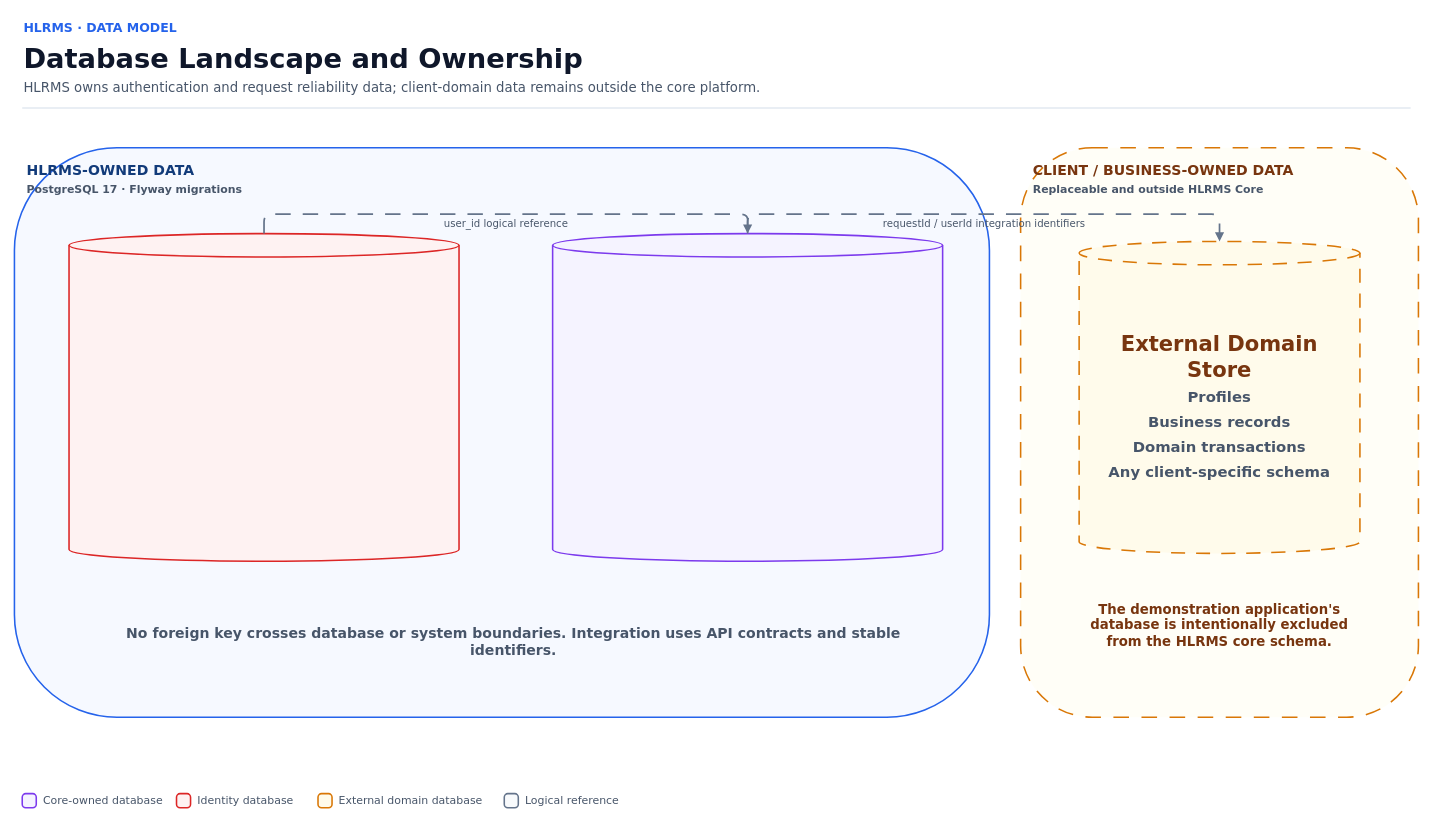
This 1432x825 diagram has some shape labels left out. Each missing label, with the centre of its shape:
hlrms_auth users roles user_roles refresh_tokens: the point at 263,397
hlrms_requests requests outbox_events processed_events: the point at 747,397
